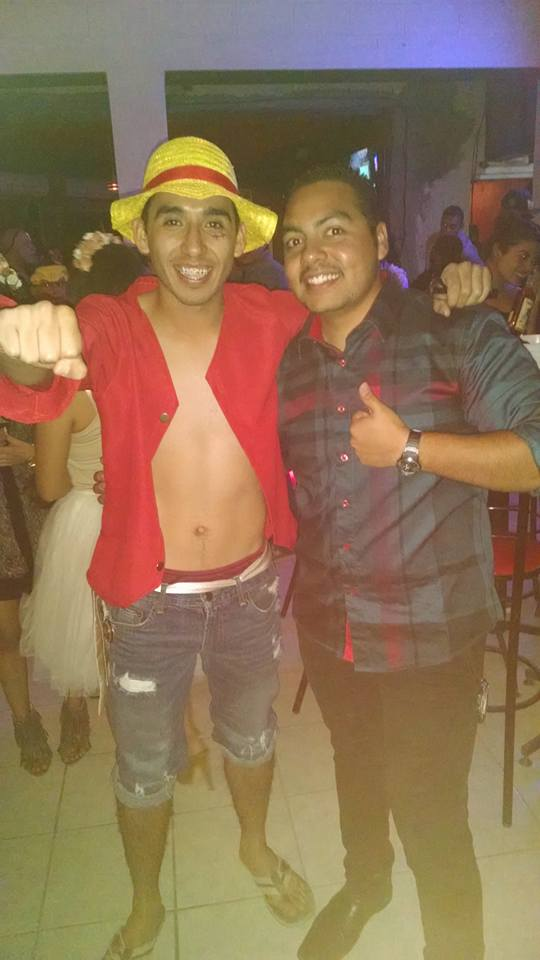Yoshi: (263, 161, 401, 375)
